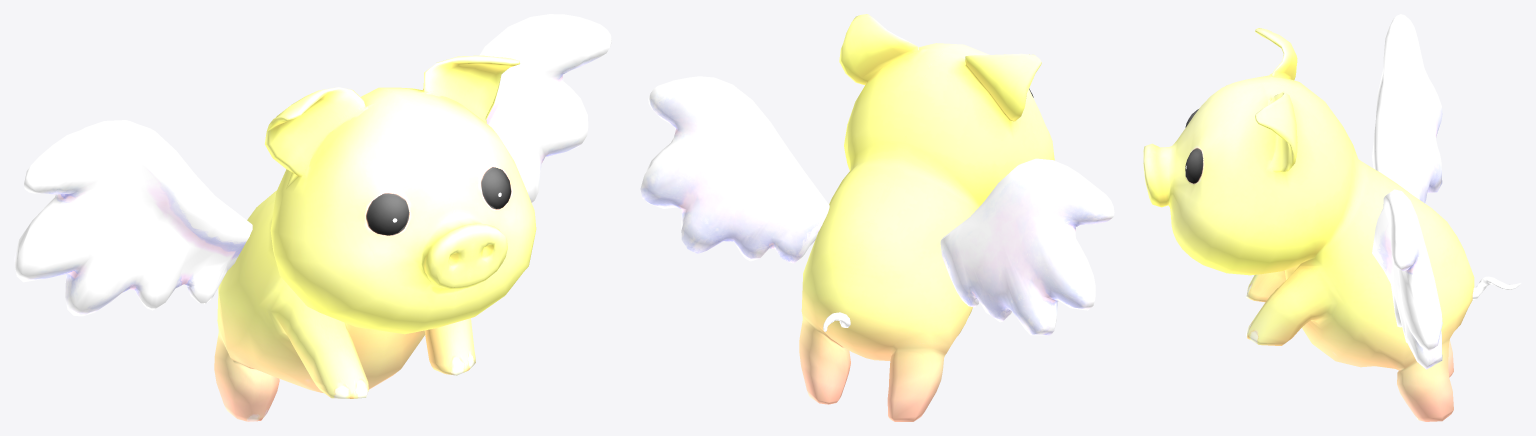
File: yellowPig.glb
3 views of the same model, side by side, from view 1: azimuth 30°, elevation 25°; view 2: azimuth 150°, elevation 25°; view 3: azimuth 270°, elevation 25° (orthographic). The views are drawn at different scales.
Parts seen in each view (by area): view 1: Pig, WingLP; view 2: Pig, WingLP; view 3: Pig, WingLP, Tail.001.
Part boxes in pixels (<box>): Pig: <box>214,55,536,421</box>; WingLP: <box>14,14,611,316</box>; Pig: <box>799,14,1054,421</box>; WingLP: <box>640,76,1114,335</box>; Pig: <box>1143,28,1474,421</box>; WingLP: <box>1372,14,1442,369</box>; Tail.001: <box>1472,276,1521,299</box>.
Bounding box in the file's own units: 4.16 × 2.7 × 2.8.
3 materials, 3 textured.
